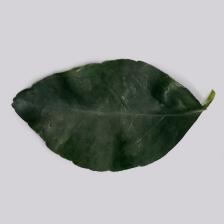healthy: (12, 58, 204, 174)
